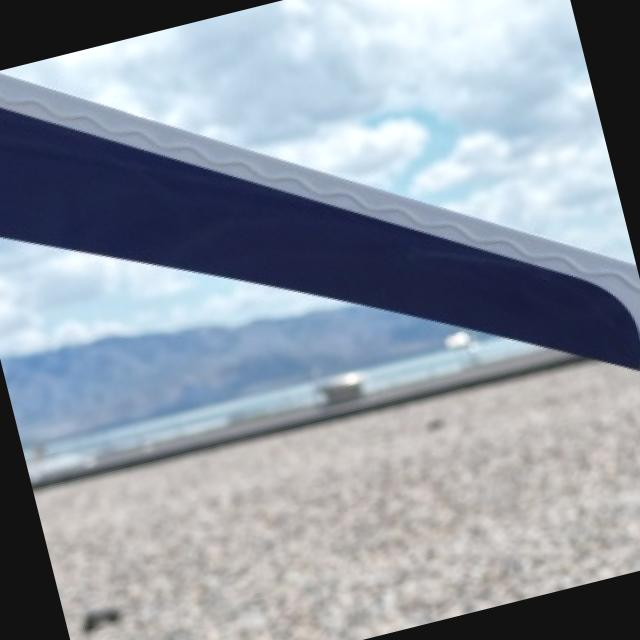healthy: (34, 357, 640, 640), (0, 238, 449, 438)
